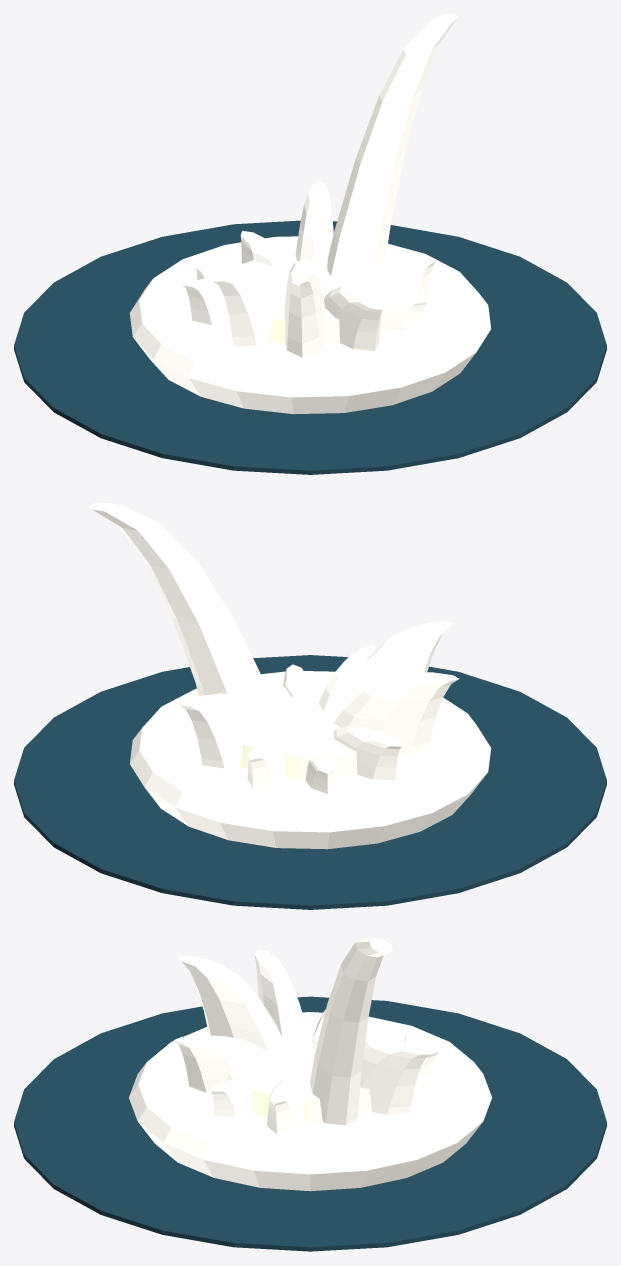
Rendered from artscience-museum.glb.
The picture shows the model from 3 angles, top to bottom: view 1: azimuth 30°, elevation 25°; view 2: azimuth 150°, elevation 25°; view 3: azimuth 270°, elevation 25°; orthographic projection.
Visible parts, largest first — view 1: pond, petals, bowl, core; view 2: pond, petals, bowl, core; view 3: pond, bowl, petals, core.
Boxes of the visible parts, x1=… form: pond: x1=14, y1=220, x2=606, y2=474; petals: x1=183, y1=14, x2=457, y2=357; bowl: x1=129, y1=236, x2=490, y2=414; core: x1=244, y1=251, x2=396, y2=345; pond: x1=14, y1=655, x2=606, y2=909; petals: x1=88, y1=503, x2=459, y2=793; bowl: x1=130, y1=671, x2=491, y2=849; core: x1=240, y1=685, x2=357, y2=780; pond: x1=14, y1=996, x2=606, y2=1251; bowl: x1=129, y1=1012, x2=491, y2=1191; petals: x1=174, y1=938, x2=438, y2=1134; core: x1=227, y1=1026, x2=375, y2=1122.
Size of the model in its own units: 124 by 60.49 by 124.
